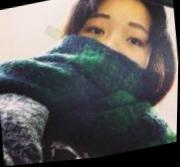WRONG: (69, 1, 159, 105)
